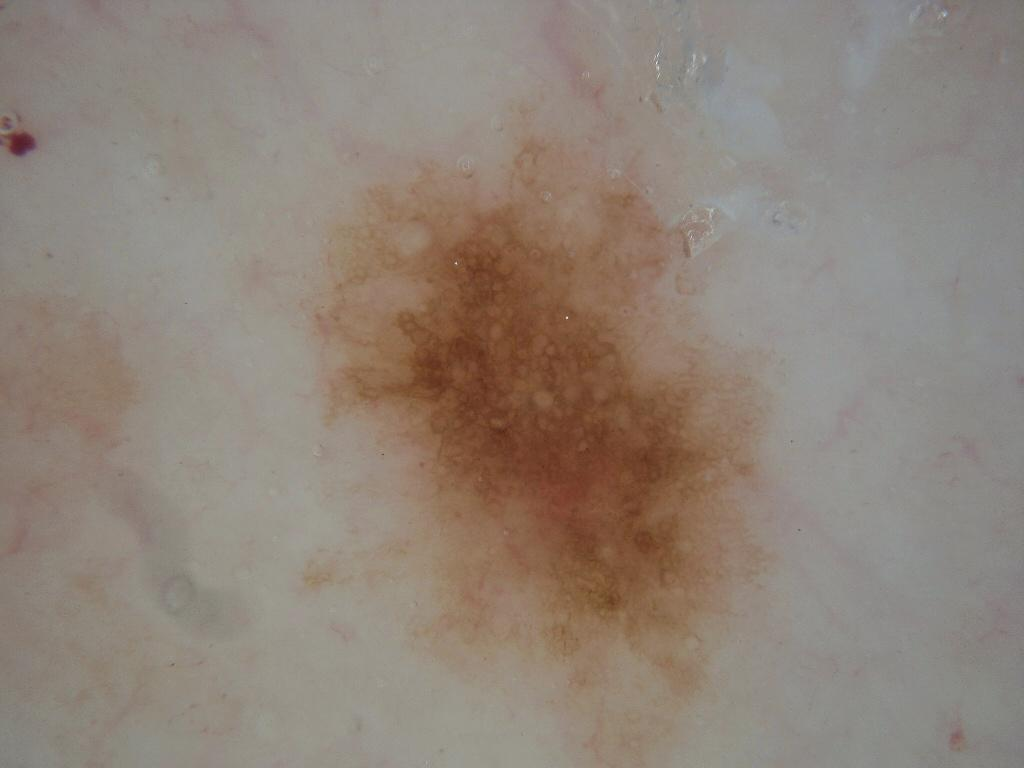Detected Lesion: (301, 110, 778, 716)
